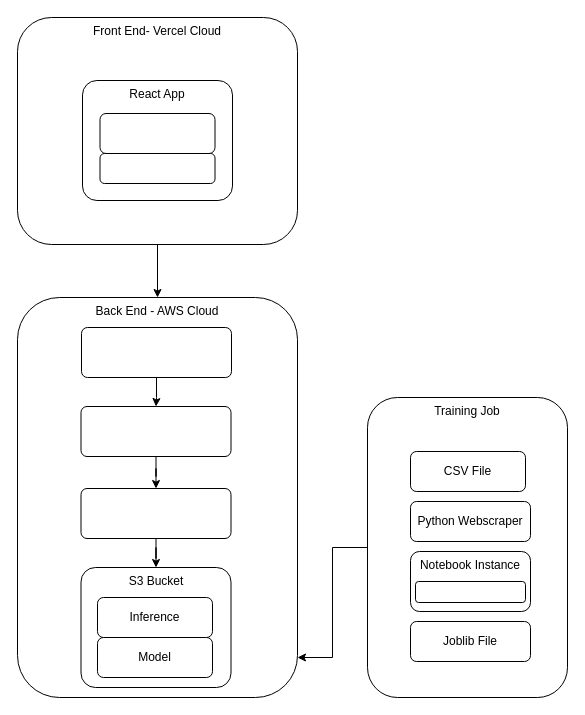
This 585x715 diagram has some shape labels left out. Each missing label, with the centre of its shape:
"API Gateway" belongs at point 156,352.
"AWS Lambda" belongs at point 155,431.
"Axois" belongs at point 157,168.
"HTML Front End" belongs at point 157,133.
"Jupyter" belongs at point 470,591.
"Sagemaker Endpoint" belongs at point 155,513.
